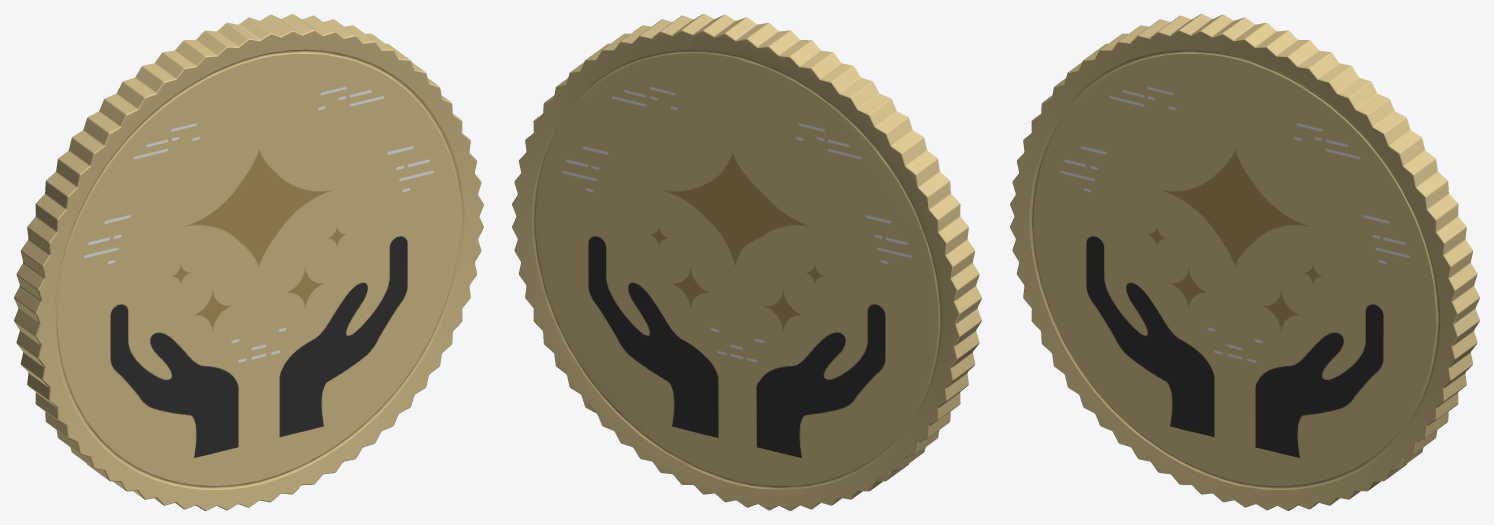
The model's file is values_captivate.glb.
3 views of the same model, side by side, from view 1: azimuth 30°, elevation 25°; view 2: azimuth 150°, elevation 25°; view 3: azimuth 330°, elevation 25° (orthographic).
Parts seen in each view (by area): view 1: values-captivate-obj; view 2: values-captivate-obj; view 3: values-captivate-obj.
Part boxes in pixels (x1,y1,x2,y2): values-captivate-obj: (14, 14, 483, 510); values-captivate-obj: (512, 14, 981, 510); values-captivate-obj: (1010, 14, 1479, 510).
Size of the model in its own units: 4.86 by 4.86 by 0.4257.
1 material, 1 textured.
